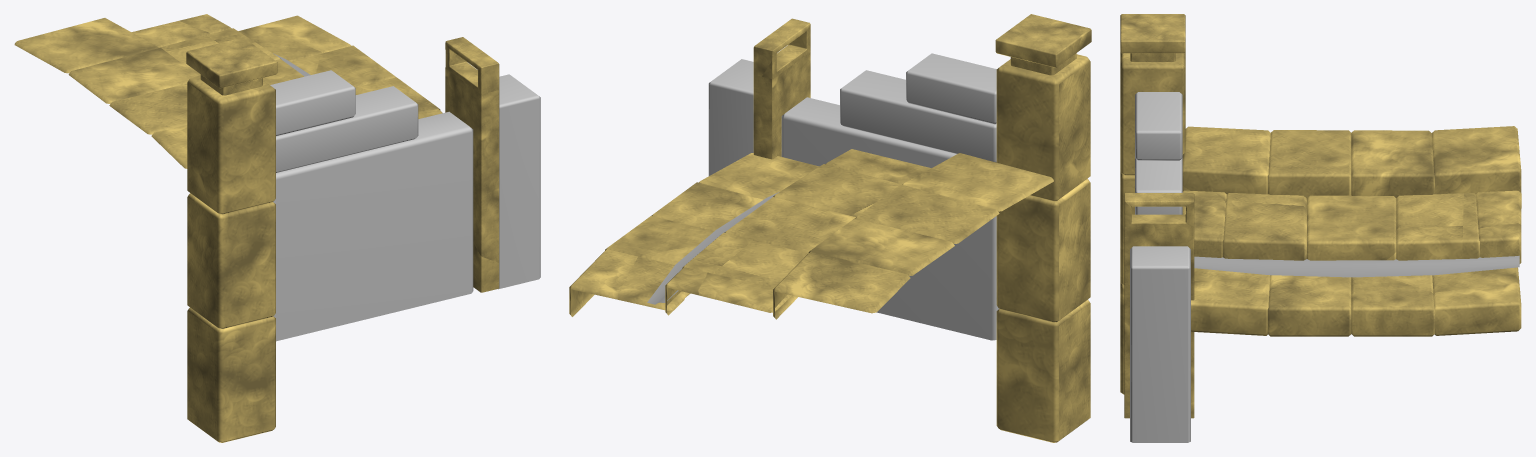
Rendered from Stairset.fbx.
The picture shows the model from 3 angles, left to right: view 1: azimuth 30°, elevation 25°; view 2: azimuth 150°, elevation 25°; view 3: azimuth 270°, elevation 25°; orthographic projection. The views are drawn at different scales.
Visible parts, largest first — view 1: Banister, Pole, Stairs, MidBit; view 2: Stairs, Pole, Banister, MidBit, Snad; view 3: Stairs, MidBit, Pole, Banister, Snad.
Boxes of the visible parts, x1,y1,x2,y2 form: Banister: [270, 70, 473, 341]; Pole: [186, 37, 277, 442]; Stairs: [14, 14, 442, 168]; MidBit: [445, 37, 540, 292]; Stairs: [569, 149, 1053, 319]; Pole: [995, 14, 1091, 442]; Banister: [781, 53, 999, 340]; MidBit: [708, 18, 810, 175]; Snad: [647, 191, 779, 304]; Stairs: [1182, 126, 1521, 336]; MidBit: [1124, 193, 1194, 442]; Pole: [1120, 14, 1185, 394]; Banister: [1135, 92, 1182, 214]; Snad: [1194, 255, 1519, 277].
Bounding box in the file's own units: 364 × 392 × 401.
